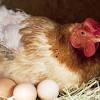egg: (38, 79, 60, 99), (15, 83, 37, 100), (0, 78, 15, 100)
